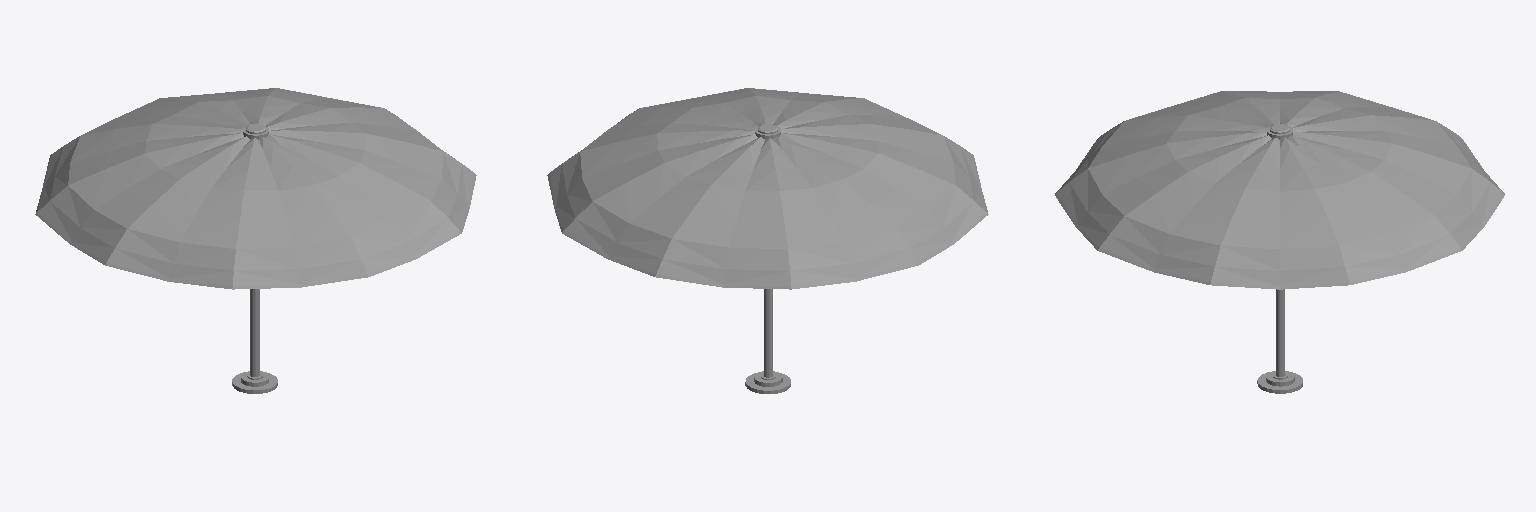
File: umbrella.obj
3 renders of one model, left to right at view 1: azimuth 30°, elevation 25°; view 2: azimuth 150°, elevation 25°; view 3: azimuth 270°, elevation 25°, orthographic.
Visible parts, largest first — view 1: Umbrella_sombrilla:pCylinder4_sombrilla:pCylinder5; view 2: Umbrella_sombrilla:pCylinder4_sombrilla:pCylinder5; view 3: Umbrella_sombrilla:pCylinder4_sombrilla:pCylinder5.
Boxes of the visible parts, box(x1,y1,x2,y2) form: Umbrella_sombrilla:pCylinder4_sombrilla:pCylinder5: box(35, 88, 476, 393); Umbrella_sombrilla:pCylinder4_sombrilla:pCylinder5: box(547, 88, 988, 393); Umbrella_sombrilla:pCylinder4_sombrilla:pCylinder5: box(1055, 91, 1504, 393).
Size of the model in its own units: 3.14 by 2.07 by 3.3.